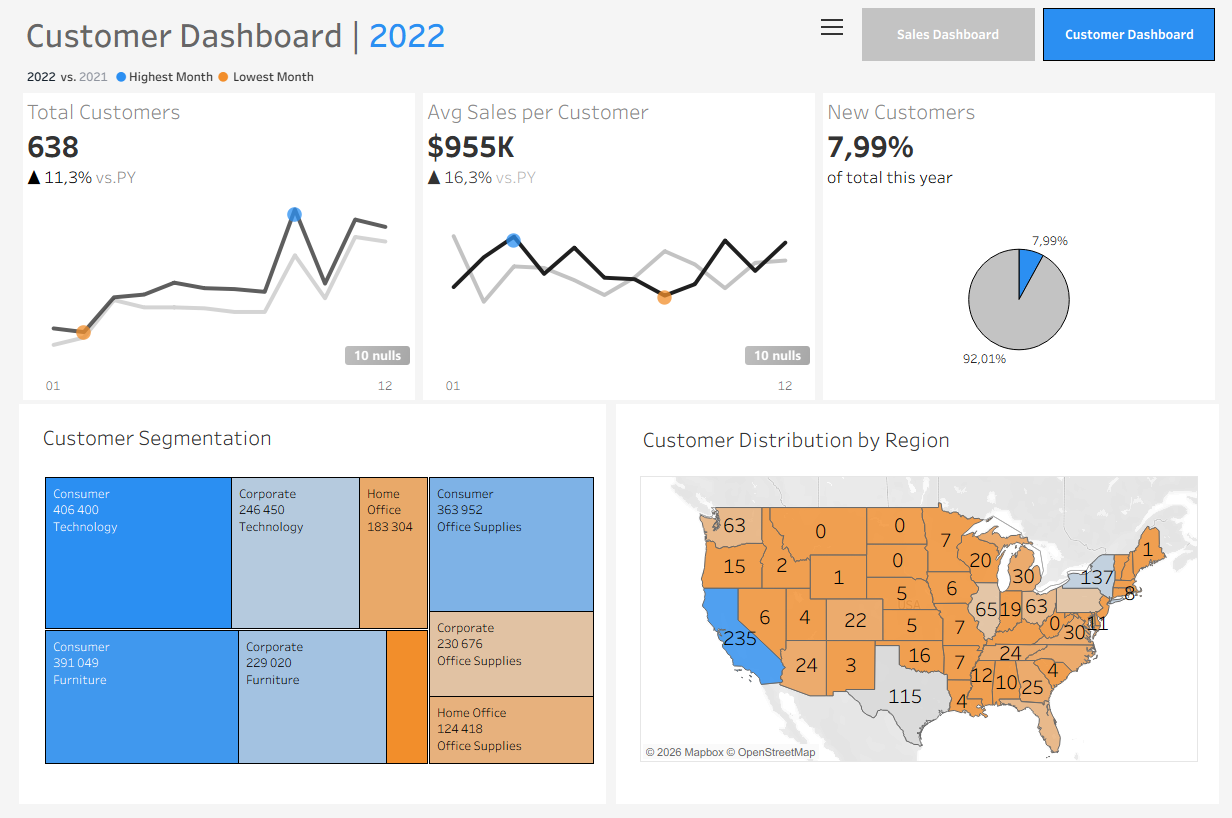

This screenshot's page, from the dashboard's own definition file:
{"tool":"tableau","page":{"name":"Customer Dashboard","canvas":[1200,800],"ordinal":0},"visuals":[{"type":"text","box":[0,0,839,61]},{"type":"dashboard-object","box":[839,0,181,61]},{"type":"dashboard-object","box":[1020,0,180,61]},{"type":"dashboard-object","box":[801,11,24,24]},{"type":"worksheet","title":"Legend KPI","mark":"Automatic","box":[0,61,1200,24]},{"type":"worksheet","title":"Total Customers","mark":"Line","rows":["Calculation_1490972981603381251"],"cols":["Order Date"],"box":[0,85,400,315]},{"type":"worksheet","title":"Avg Sales per Customer","mark":"Automatic","rows":["Calculation_1490972981958856714"],"cols":["Order Date"],"box":[400,85,400,315]},{"type":"worksheet","title":"New vs Returning Customers","mark":"Pie","box":[800,85,400,315]},{"type":"parameter","param":"[Parameters].[Parameter 1]","box":[1034,91,158,52]},{"type":"legend","title":"Avg Sales per Customer","param":"[federated.19rw79u1ow10a016p7cqy1blbre3].[:Measure Names]","box":[1034,143,158,63.2]},{"type":"legend","title":"New vs Returning Customers","param":"[federated.19rw79u1ow10a016p7cqy1blbre3].[none:Calculation_1320680623819968518:n","box":[1034,206.2,158,63.2]},{"type":"legend","title":"Customer Geographic Map","param":"[federated.19rw79u1ow10a016p7cqy1blbre3].[usr:Calculation_1490972981596254208:vt","box":[1034,269.4,158,63.2]},{"type":"legend","title":"Customer Geographic Map","param":"[federated.19rw79u1ow10a016p7cqy1blbre3].[usr:Calculation_1490972981596254208:vt","box":[1034,332.6,158,63.2]},{"type":"legend","title":"Customer Segmentation Treemap","param":"[federated.19rw79u1ow10a016p7cqy1blbre3].[sum:Calculation_1147854970904162313:qk","box":[1034,395.8,158,63.2]},{"type":"blank","box":[587,399,10,405]},{"type":"text","box":[17,417,566,32]},{"type":"text","box":[617,417,566,36]},{"type":"worksheet","title":"Customer Segmentation Treemap","mark":"Automatic","box":[17,449,566,319]},{"type":"worksheet","title":"Customer Geographic Map","mark":"Multipolygon","box":[617,453,566,309]}]}

Visuals, with their boxes in screenshot pixels (x1, y1, x2, y2), scaled from the page's 1200x800 canvas onto the 1232x818 screenshot:
text: (left=0, top=0, right=861, bottom=62)
dashboard-object: (left=861, top=0, right=1047, bottom=62)
dashboard-object: (left=1047, top=0, right=1231, bottom=62)
dashboard-object: (left=822, top=11, right=847, bottom=36)
"Legend KPI" worksheet: (left=0, top=62, right=1231, bottom=87)
"Total Customers" worksheet (Line marks): (left=0, top=87, right=411, bottom=409)
"Avg Sales per Customer" worksheet: (left=411, top=87, right=821, bottom=409)
"New vs Returning Customers" worksheet (Pie marks): (left=821, top=87, right=1231, bottom=409)
parameter: (left=1062, top=93, right=1224, bottom=146)
"Avg Sales per Customer" legend: (left=1062, top=146, right=1224, bottom=211)
"New vs Returning Customers" legend: (left=1062, top=211, right=1224, bottom=275)
"Customer Geographic Map" legend: (left=1062, top=275, right=1224, bottom=340)
"Customer Geographic Map" legend: (left=1062, top=340, right=1224, bottom=405)
"Customer Segmentation Treemap" legend: (left=1062, top=405, right=1224, bottom=469)
blank: (left=603, top=408, right=613, bottom=817)
text: (left=17, top=426, right=599, bottom=459)
text: (left=633, top=426, right=1215, bottom=463)
"Customer Segmentation Treemap" worksheet: (left=17, top=459, right=599, bottom=785)
"Customer Geographic Map" worksheet (Multipolygon marks): (left=633, top=463, right=1215, bottom=779)
